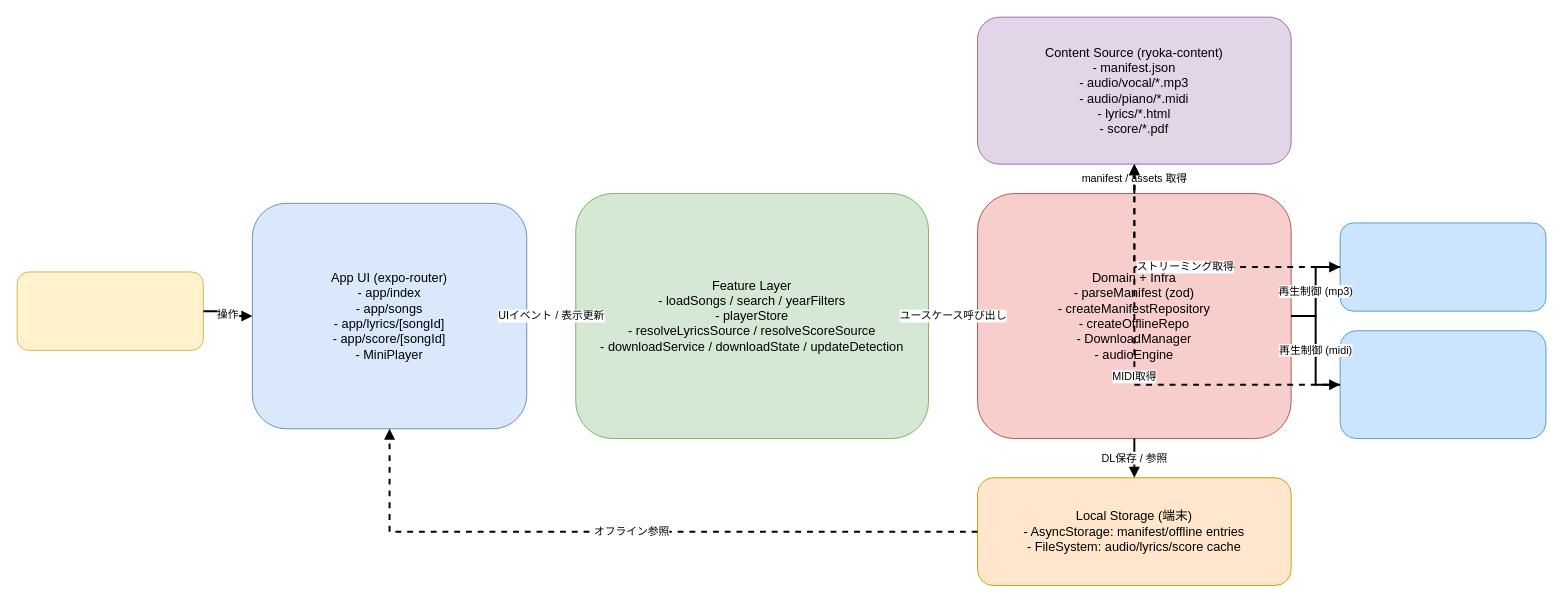
The diagram is 1563 pixels wide and 603 high, and some of its shapes have lost their labels. Each missing label, with the box of its shape:
expo-av backend (mp3 playback): (1339, 222, 1546, 311)
Web MIDI backend (WebAudio + midi-file) tempo / timbre / seek / loop: (1339, 330, 1546, 439)
利用者 (iOS / Android / Web): (16, 271, 203, 350)
